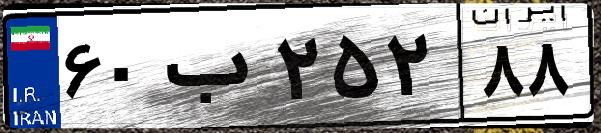0: (110, 28, 158, 98)
2: (270, 28, 330, 110), (385, 28, 445, 110)
5: (330, 28, 385, 110)
6: (57, 26, 110, 100)
8: (475, 38, 525, 113), (525, 38, 570, 115)
ب: (158, 20, 270, 120)
